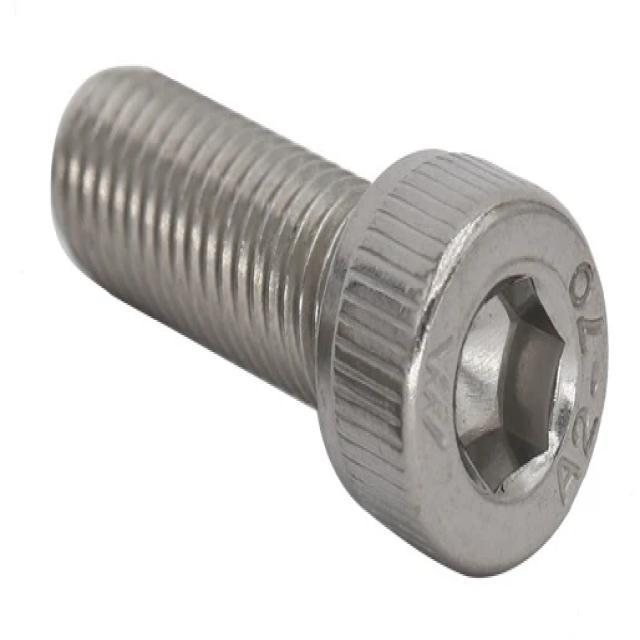allen: (406, 196, 610, 580)
